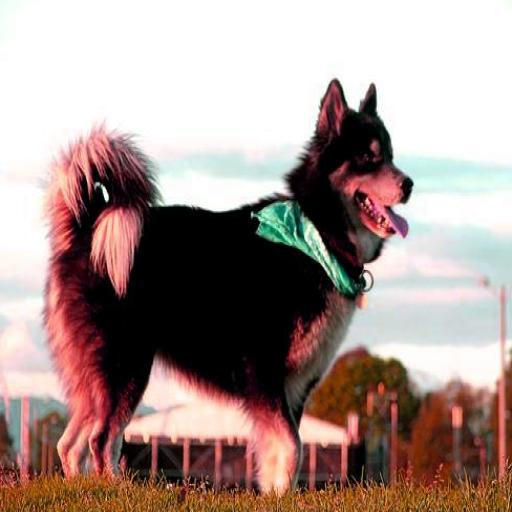dog_face: (302, 83, 415, 246)
